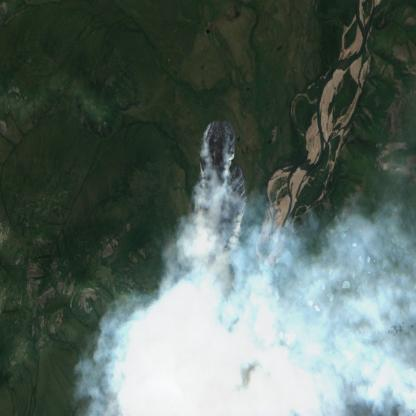fire: (189, 116, 251, 290)
